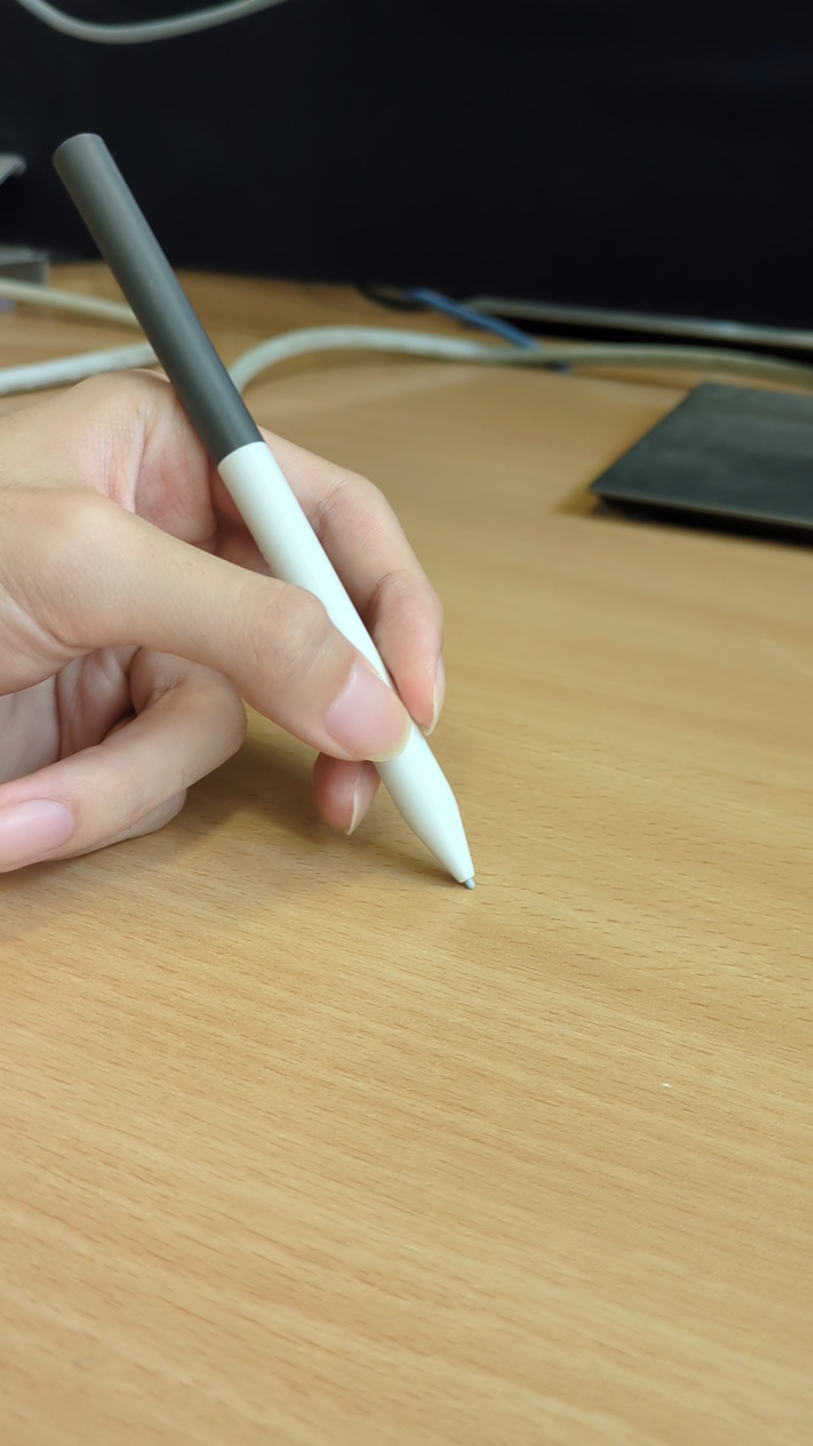pen: (52, 133, 481, 894)
tip: (455, 865, 477, 889)
